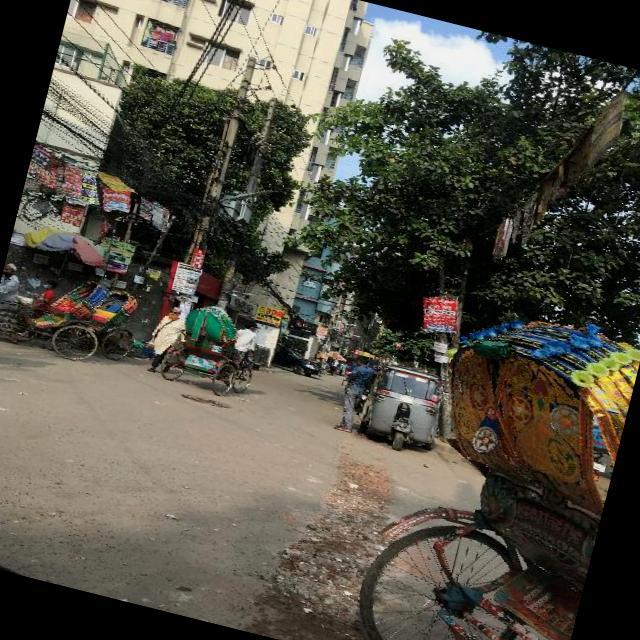car: (273, 344, 329, 379)
motorcycle: (376, 295, 640, 640), (159, 296, 270, 404), (0, 257, 112, 364), (350, 358, 440, 457), (86, 284, 142, 366)
